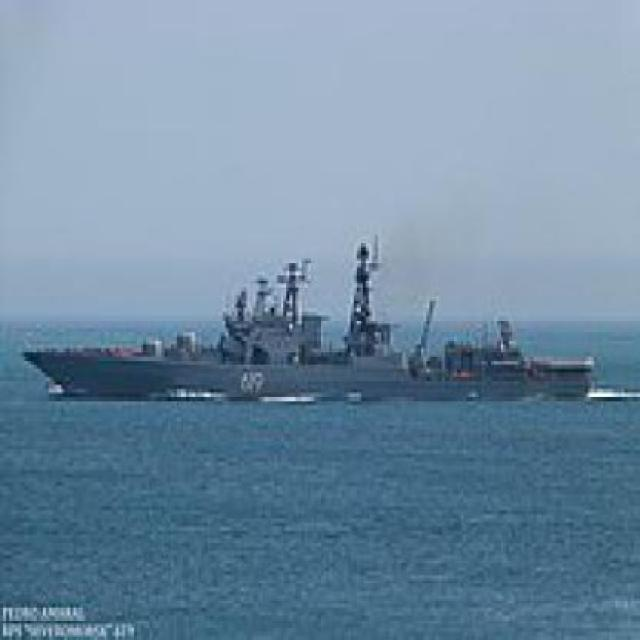warship2: (22, 228, 611, 414)
